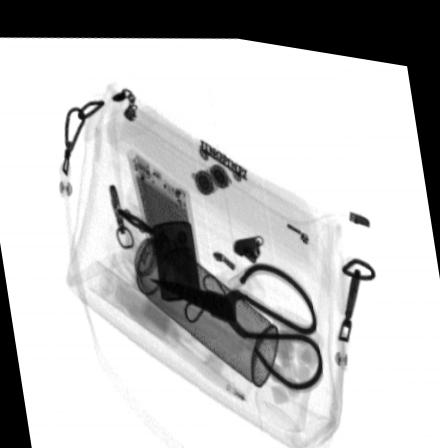Powerbank: (128, 142, 205, 302)
Scissors: (148, 251, 324, 384)
Sprayer: (136, 219, 283, 376)
